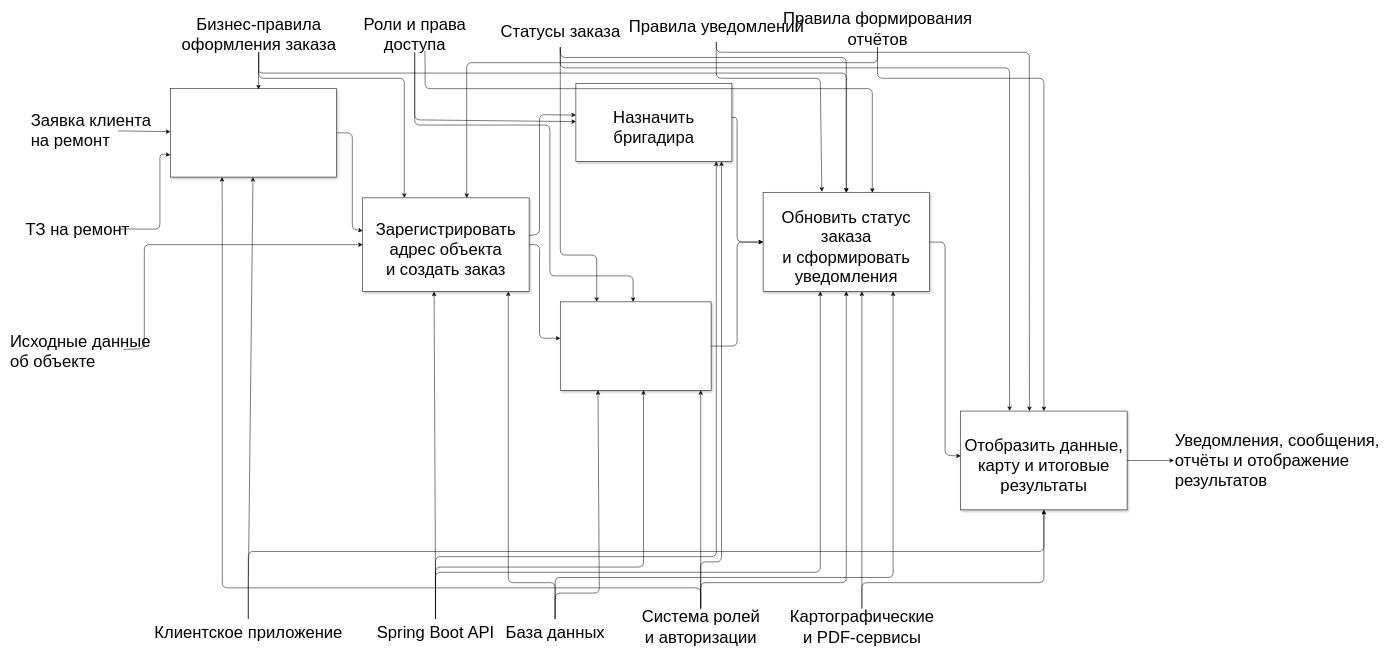
Some shapes in this 1388 by 656 pixel diagram are drawn without their labels. Each missing label, with the centre of its shape:
"Назначить мастеров на заказ" belongs at point 636,346.
"Принять заявку и выполнить первичную валидацию" belongs at point 254,133.
